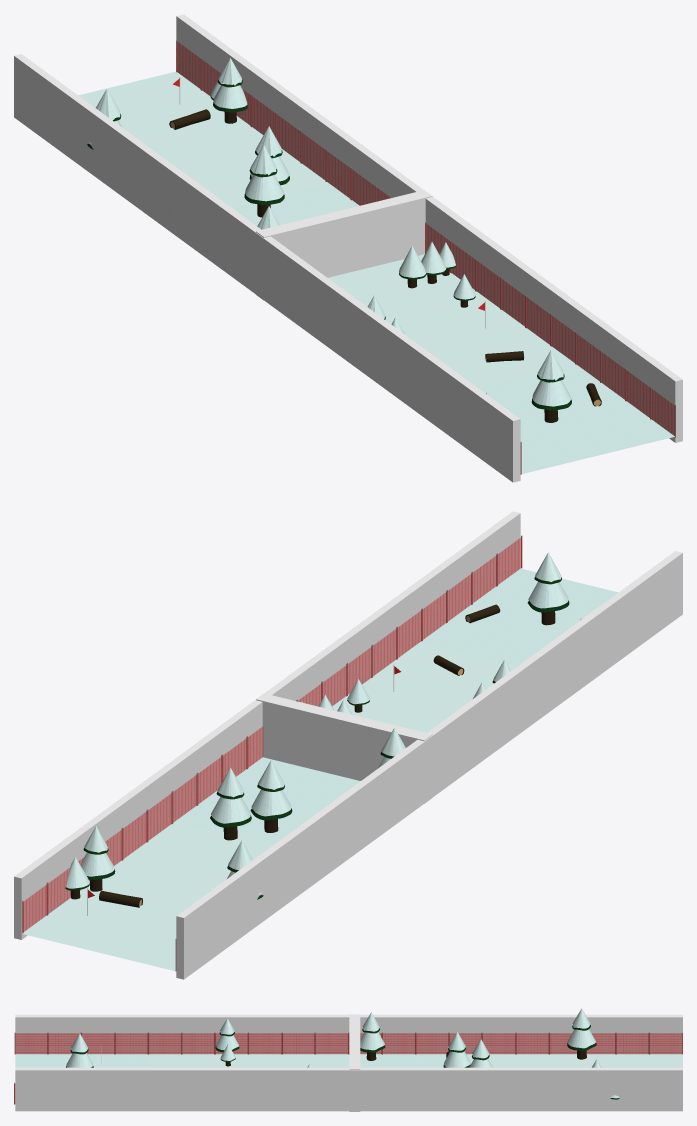
3 views of the same model, one above another, from view 1: azimuth 30°, elevation 25°; view 2: azimuth 150°, elevation 25°; view 3: azimuth 270°, elevation 25° (orthographic). The views are drawn at different scales.
Visible parts, largest first — view 1: Floor.004, Cube.008, Cube.005, Cube.006, Floor.003, Fence.013, Cube.007, Generate.003, Pinetree2.077, Pinetree2.113, Pinetree2.122, Pinetree2.114; view 2: Floor.003, Cube.005, Cube.008, Floor.004, Cube.007, Cube.006, Fence.013, Generate.003, Pinetree2.077, Pinetree2.114, Pinetree2.113, Pinetree2.122; view 3: Cube.006, Cube.007, Cube.005, Fence.014, Cube.008, Floor.004, Floor.003, Pinetree2.120, Pinetree2.089, Generate.003, Pinetree2.113, Pinetree2.077 (+3 smaller).
Part boxes in pixels (x1,y1,x2,y2): Floor.004: (328, 254, 674, 473); Cube.008: (14, 54, 276, 304); Cube.005: (269, 241, 520, 482); Cube.006: (426, 197, 682, 442); Floor.003: (78, 71, 359, 225); Fence.013: (176, 39, 675, 437); Cube.007: (176, 14, 439, 249); Generate.003: (256, 190, 432, 300); Pinetree2.077: (531, 350, 571, 422); Pinetree2.113: (244, 144, 284, 217); Pinetree2.122: (213, 58, 247, 123); Pinetree2.114: (249, 126, 289, 185); Floor.003: (22, 757, 360, 971); Cube.005: (427, 551, 682, 801); Cube.008: (176, 739, 427, 979); Floor.004: (332, 568, 618, 732); Cube.007: (14, 690, 276, 939); Cube.006: (264, 511, 520, 706); Fence.013: (22, 535, 522, 933); Generate.003: (256, 693, 432, 803); Pinetree2.077: (527, 552, 569, 625); Pinetree2.114: (210, 767, 251, 840); Pinetree2.113: (250, 760, 292, 832); Pinetree2.122: (81, 826, 115, 891); Cube.006: (15, 1067, 357, 1111); Cube.007: (341, 1067, 682, 1111); Cube.005: (15, 1014, 349, 1054); Fence.014: (14, 1032, 682, 1054); Cube.008: (341, 1014, 682, 1054); Floor.004: (15, 1054, 349, 1067); Floor.003: (360, 1054, 682, 1067); Pinetree2.120: (567, 1008, 596, 1059); Pinetree2.089: (360, 1012, 385, 1060); Generate.003: (349, 1014, 360, 1111); Pinetree2.113: (443, 1031, 470, 1067); Pinetree2.077: (66, 1033, 93, 1067).
Bounding box in the file's own units: 22.13 × 9.92 × 111.
20 materials, 20 textured.
